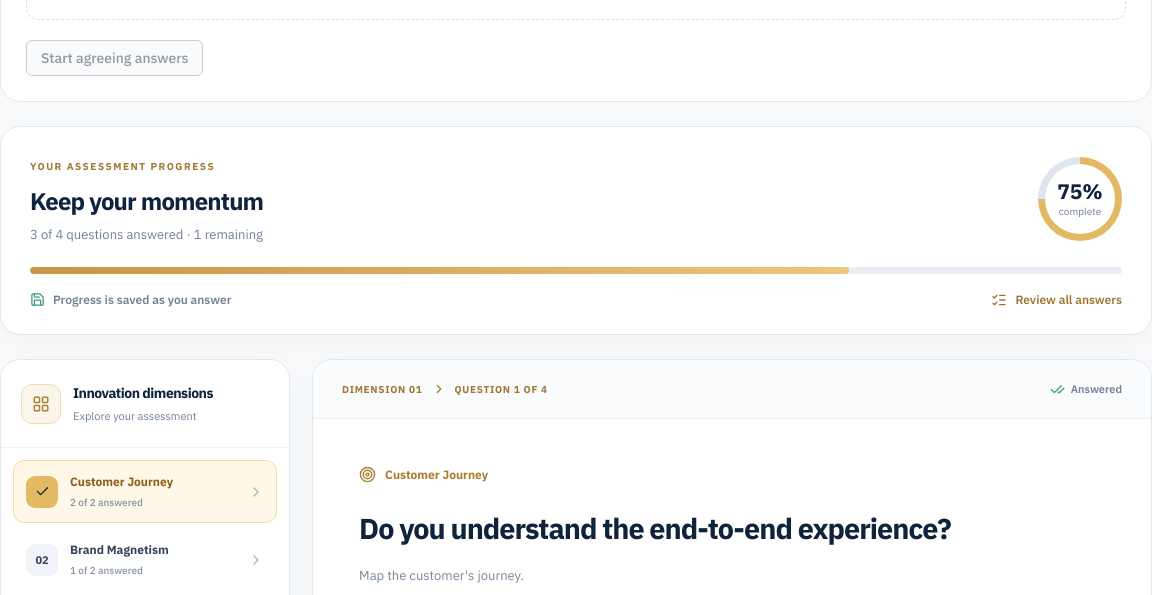
Test: QuestionnairePage › submits only after the last answer has saved
The width and height of the screenshot is (1152, 595).
(page scrolled)
Step 1. Click the button "Review all answers" → click(1057, 300), box [992,291,1122,309]
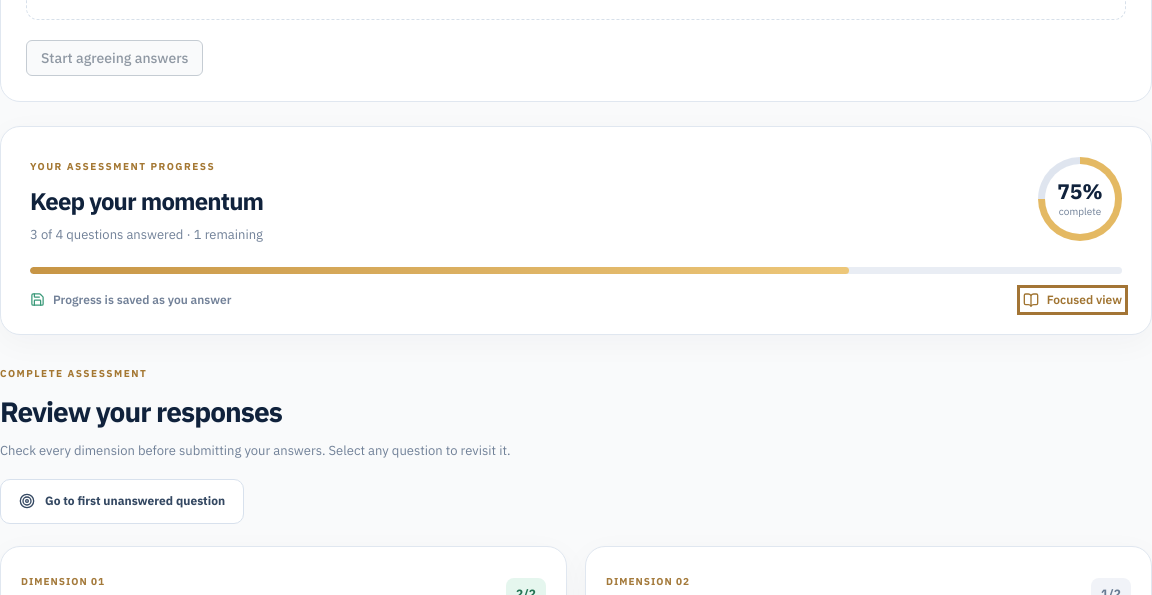
Step 2. Click the button "Go to first unanswered question" → click(122, 502), box [0,479,244,524]
(page scrolled)
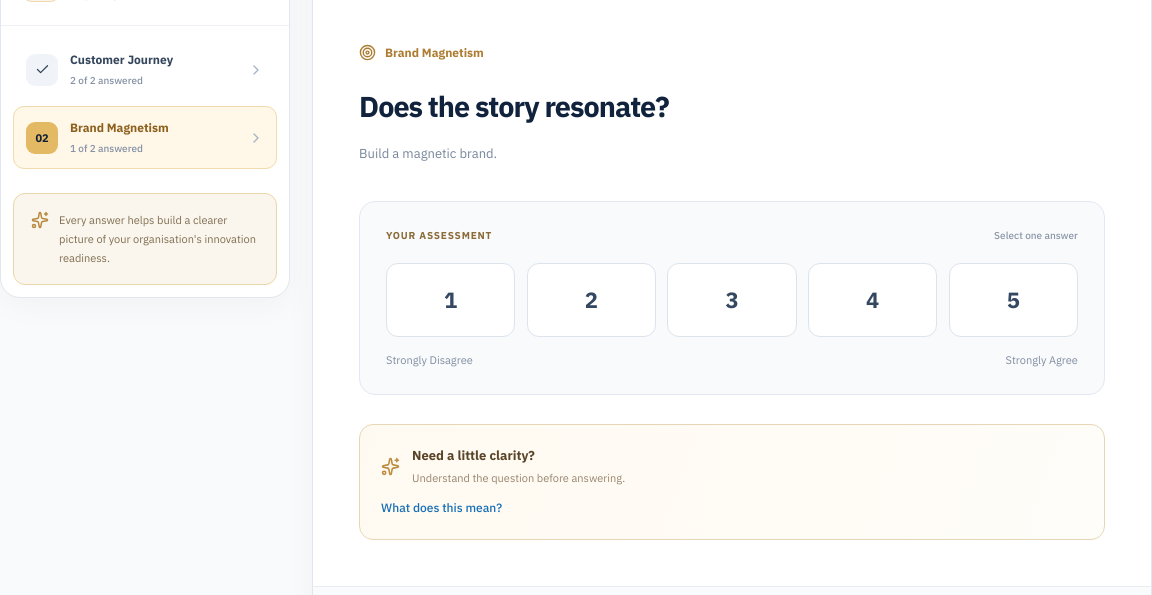
Step 3. Click the radio button labelled "2" → click(591, 300), box [527,263,656,337]
(page scrolled)
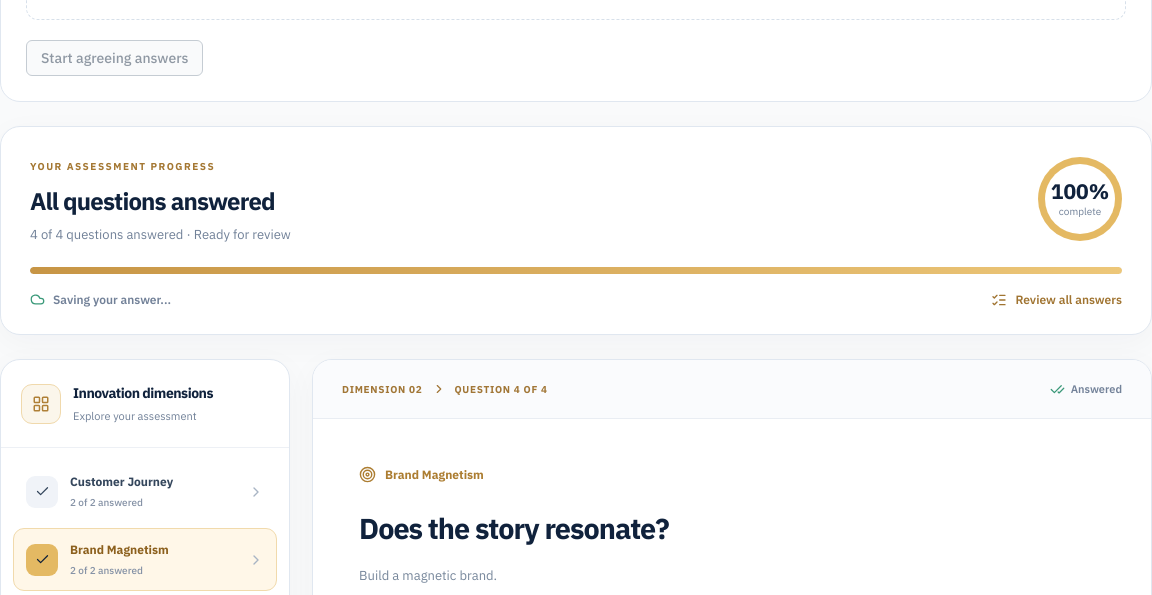
Step 4. Click the button "Review all answers" → click(1057, 300), box [992,291,1122,309]
(page scrolled)
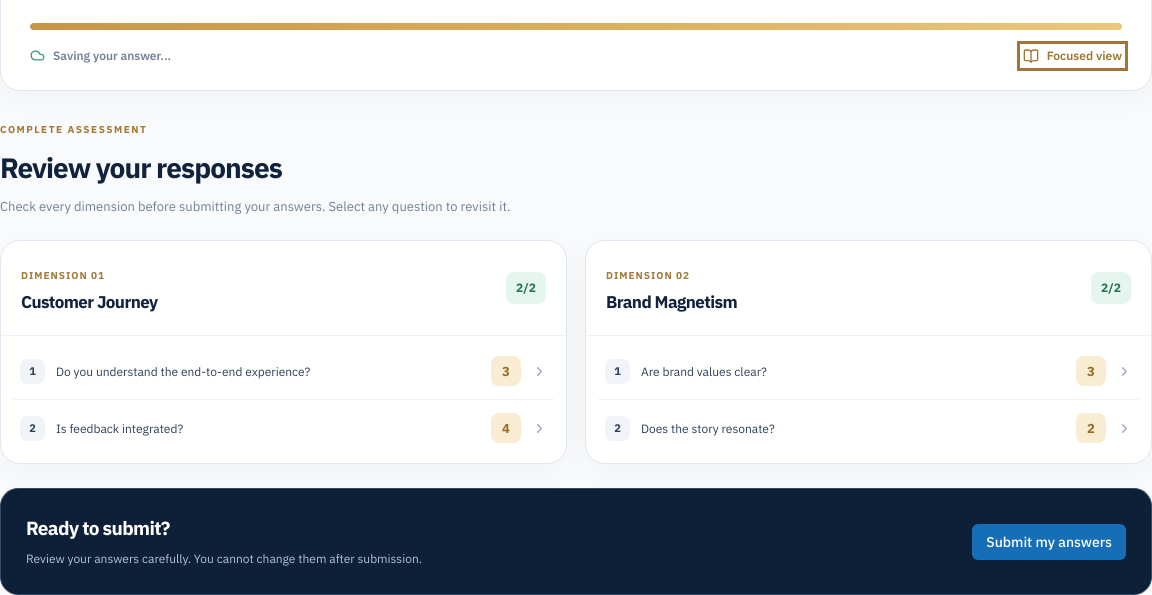
// The last answer is still saving when the person submits.
Step 5. Click the button "Submit my answers" → click(1049, 542), box [972,524,1126,560]
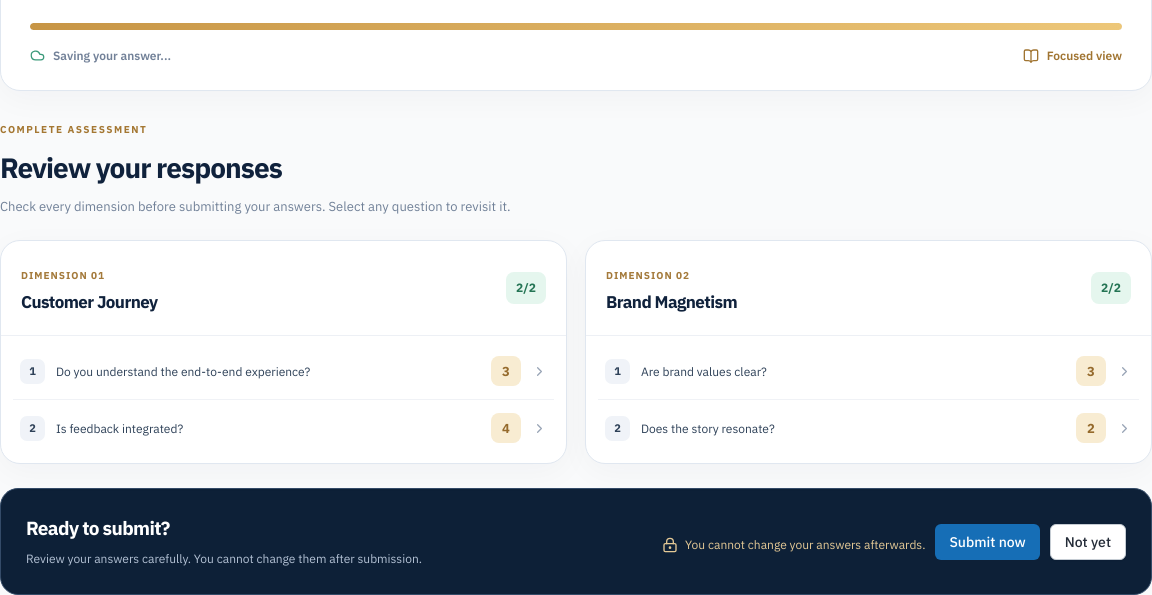
Step 6. Click the button "Submit now" → click(988, 542), box [935,524,1040,560]
(page scrolled)
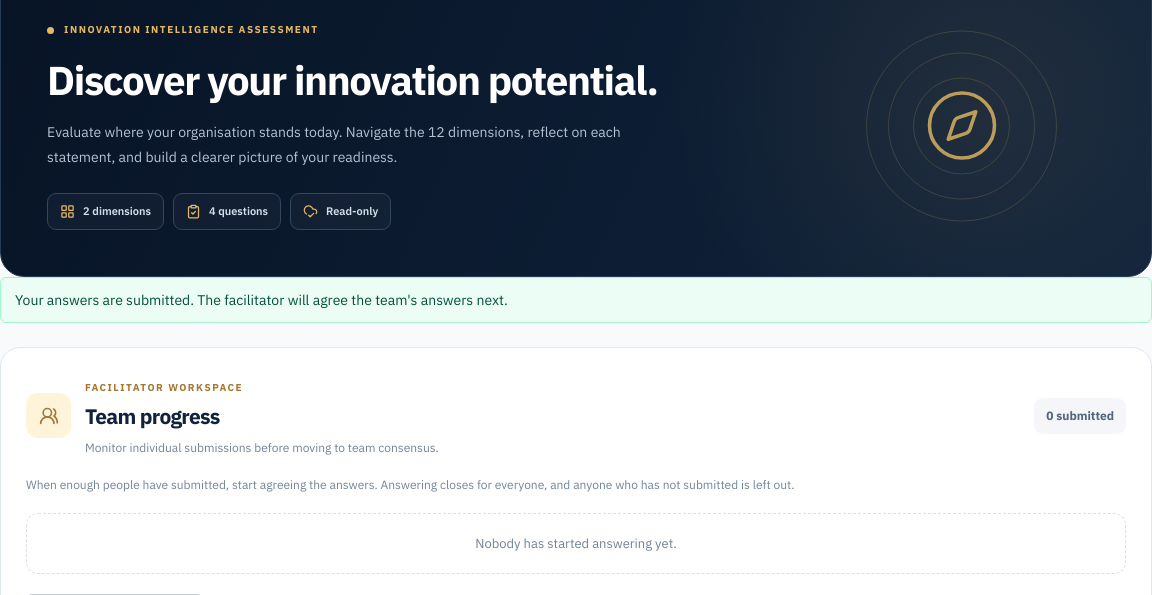
Expected: the text "Your answers are submitted" is shown, [15,291,508,309]
